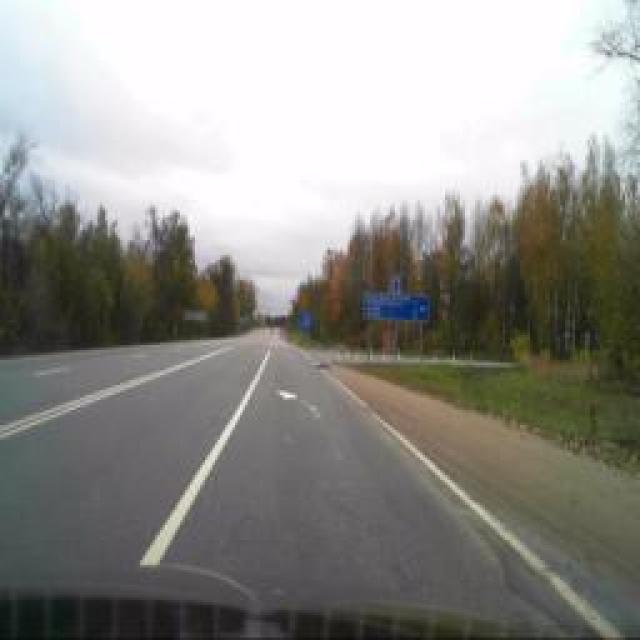sign: (391, 274, 401, 294)
